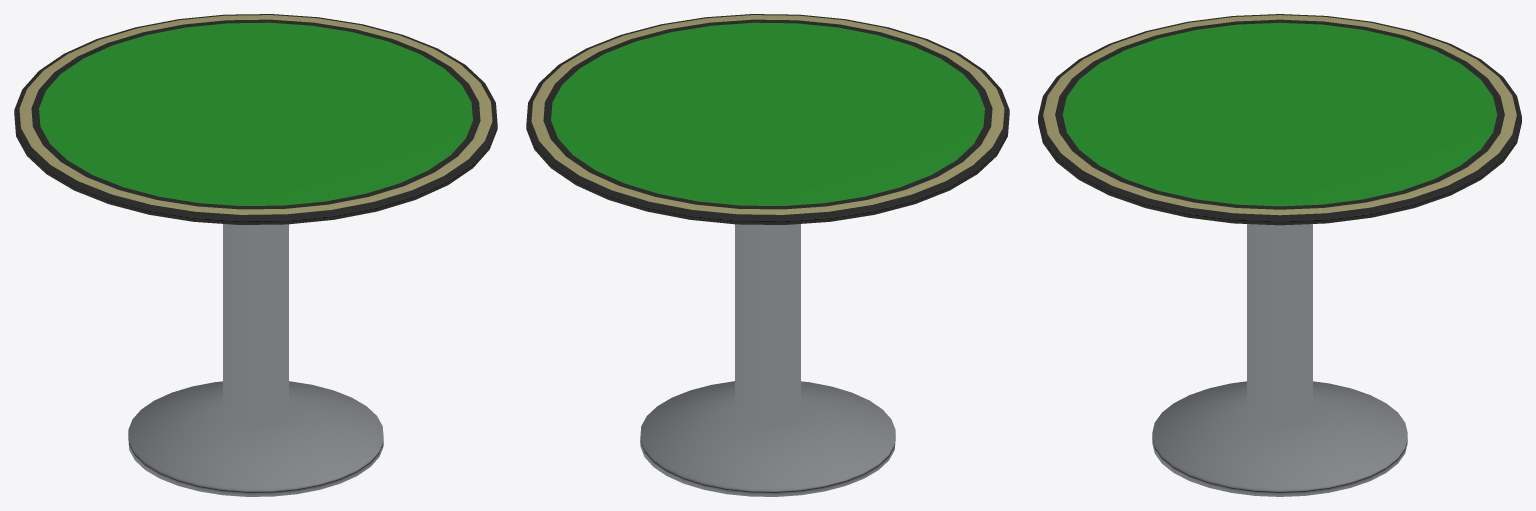
The model's file is Table.fbx.
The picture shows the model from 3 angles, left to right: view 1: azimuth 30°, elevation 25°; view 2: azimuth 150°, elevation 25°; view 3: azimuth 270°, elevation 25°; orthographic projection.
Parts seen in each view (by area): view 1: Cylinder; view 2: Cylinder; view 3: Cylinder.
Part boxes in pixels (box(x1,y1,x2,y2)): Cylinder: box(14, 14, 497, 496); Cylinder: box(526, 14, 1009, 496); Cylinder: box(1038, 14, 1521, 496).
Size of the model in its own units: 1022 by 766 by 1022.
